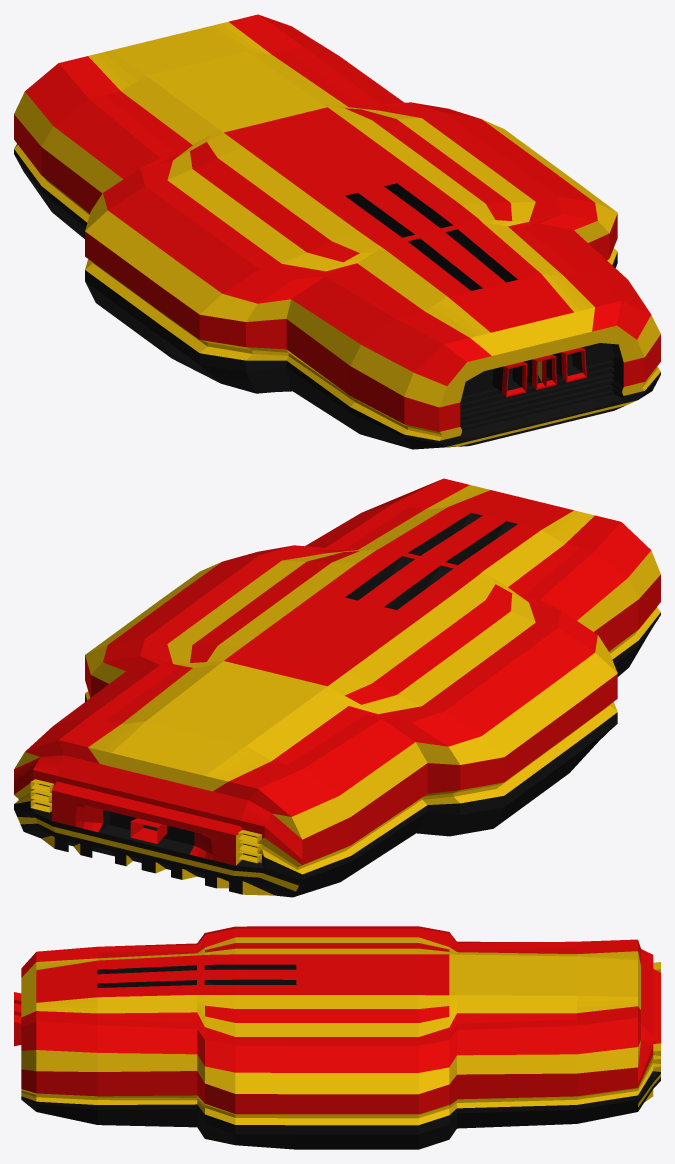
The model's file is C0.Cowl.0c.Export.glb.
3 renders of one model, top to bottom at view 1: azimuth 30°, elevation 25°; view 2: azimuth 150°, elevation 25°; view 3: azimuth 270°, elevation 25°, orthographic. The views are drawn at different scales.
Visible parts, largest first — view 1: Cube.004; view 2: Cube.004; view 3: Cube.004.
Boxes of the visible parts, x1=… form: Cube.004: x1=14, y1=14, x2=660, y2=449; Cube.004: x1=14, y1=478, x2=660, y2=897; Cube.004: x1=14, y1=926, x2=660, y2=1149.
Size of what is drawn, in the model's own units: 2.55 by 0.7388 by 4.23.
